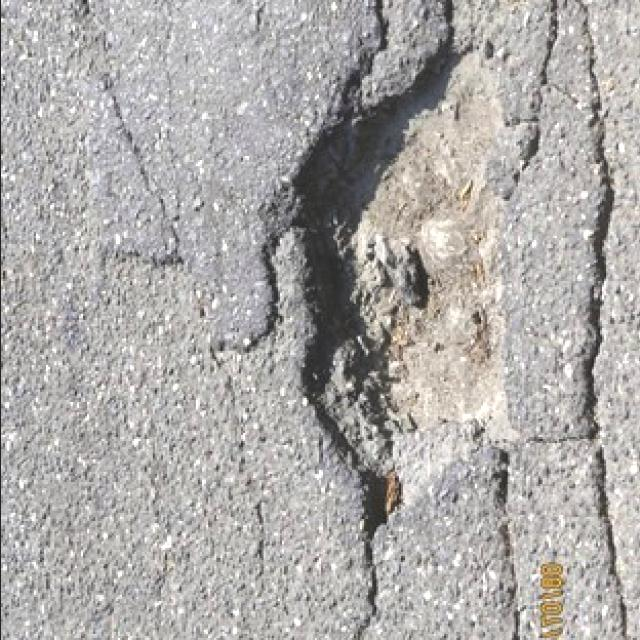pothole: (271, 32, 552, 580)
